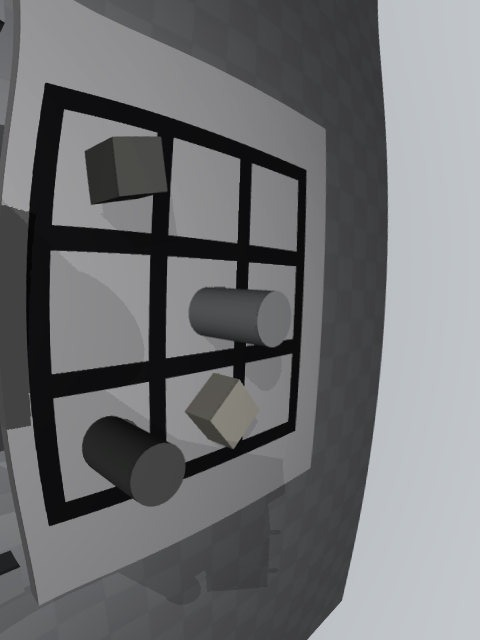can: (188, 288, 292, 347)
cube: (85, 136, 167, 205)
cylinder: (82, 416, 186, 507)
foam: (185, 373, 260, 449)
